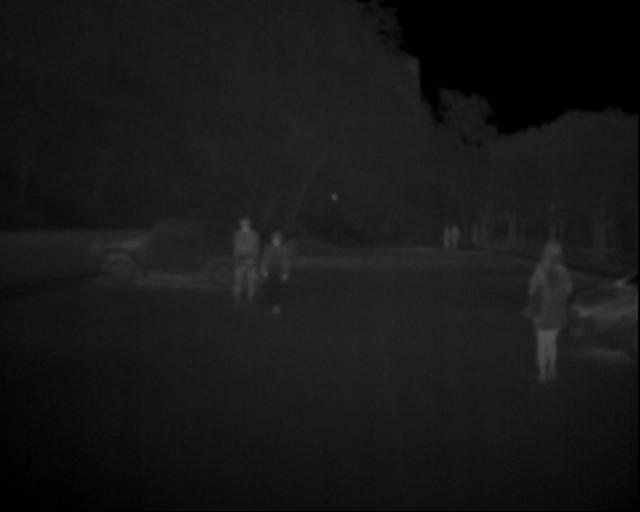person: (519, 239, 590, 405), (256, 219, 311, 332), (222, 212, 271, 322), (450, 226, 471, 257), (431, 225, 451, 256)
